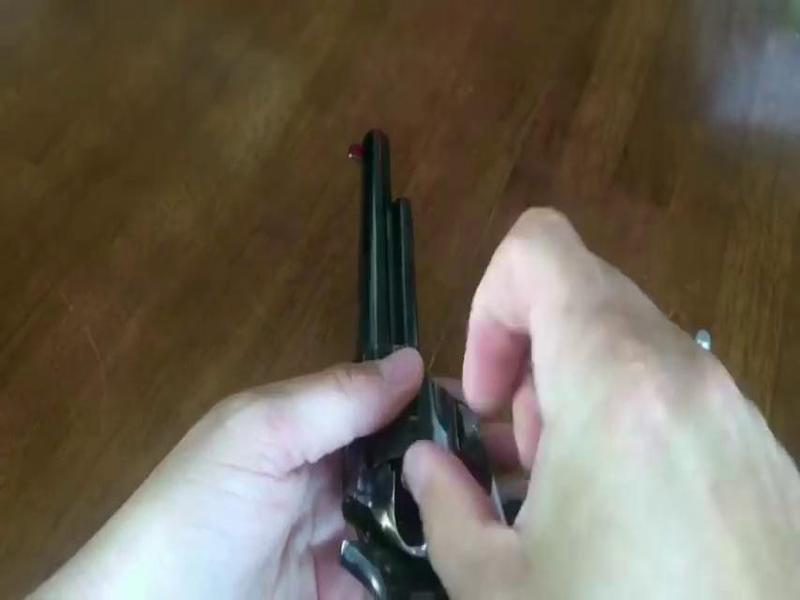Revolver: (338, 103, 550, 600)
